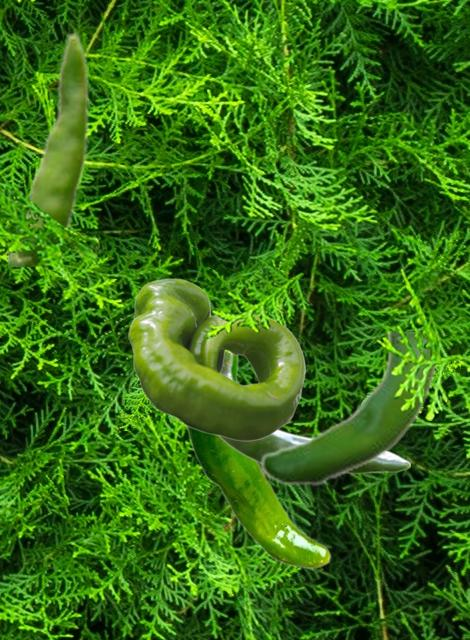green_chili: (184, 356, 330, 568), (128, 278, 304, 440), (259, 332, 435, 486), (218, 353, 409, 473), (8, 31, 89, 265)
